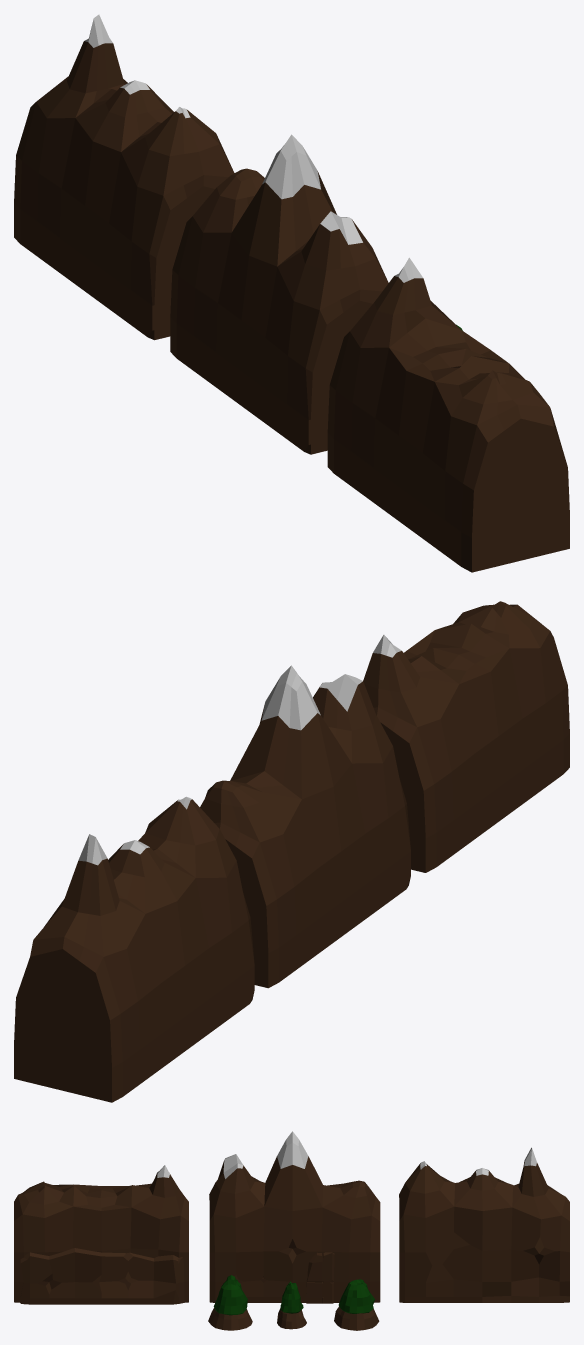
File: Bergen 1.fbx
The picture shows the model from 3 angles, top to bottom: view 1: azimuth 30°, elevation 25°; view 2: azimuth 150°, elevation 25°; view 3: azimuth 270°, elevation 25°; orthographic projection. The views are drawn at different scales.
Parts seen in each view (by area): view 1: Berg muut 1, Berg muur 2, Berg muur 3, Top 3, Top 2; view 2: Berg muur 3, Berg muur 2, Berg muut 1, Top 3, Top 2; view 3: Berg muur 3, Berg muut 1, Berg muur 2, Berg boven, Berg boven 2, Top 3, Berg onder 2, Berg onder, Berg boven 3, Berg onder 3, Top 2.
Boxes of the visible parts, box(x1,y1,x2,y2) form: Berg muut 1: box(327, 276, 569, 572); Berg muur 2: box(170, 168, 388, 454); Berg muur 3: box(14, 41, 234, 340); Top 3: box(262, 134, 320, 199); Top 2: box(320, 211, 362, 244); Berg muur 3: box(14, 799, 254, 1102); Berg muur 2: box(200, 681, 410, 988); Berg muut 1: box(363, 601, 569, 872); Top 3: box(261, 665, 320, 730); Top 2: box(320, 674, 362, 711); Berg muur 3: box(399, 1162, 569, 1302); Berg muut 1: box(14, 1173, 188, 1304); Berg muur 2: box(209, 1156, 380, 1303); Berg boven: box(213, 1275, 247, 1315); Berg boven 2: box(338, 1279, 374, 1313); Top 3: box(277, 1131, 308, 1168); Berg onder 2: box(334, 1306, 379, 1330); Berg onder: box(208, 1308, 252, 1330); Berg boven 3: box(280, 1281, 303, 1313); Berg onder 3: box(277, 1308, 306, 1329); Top 2: box(223, 1154, 243, 1178).
Size of the model in its own units: 2720 by 3394 by 10871.
